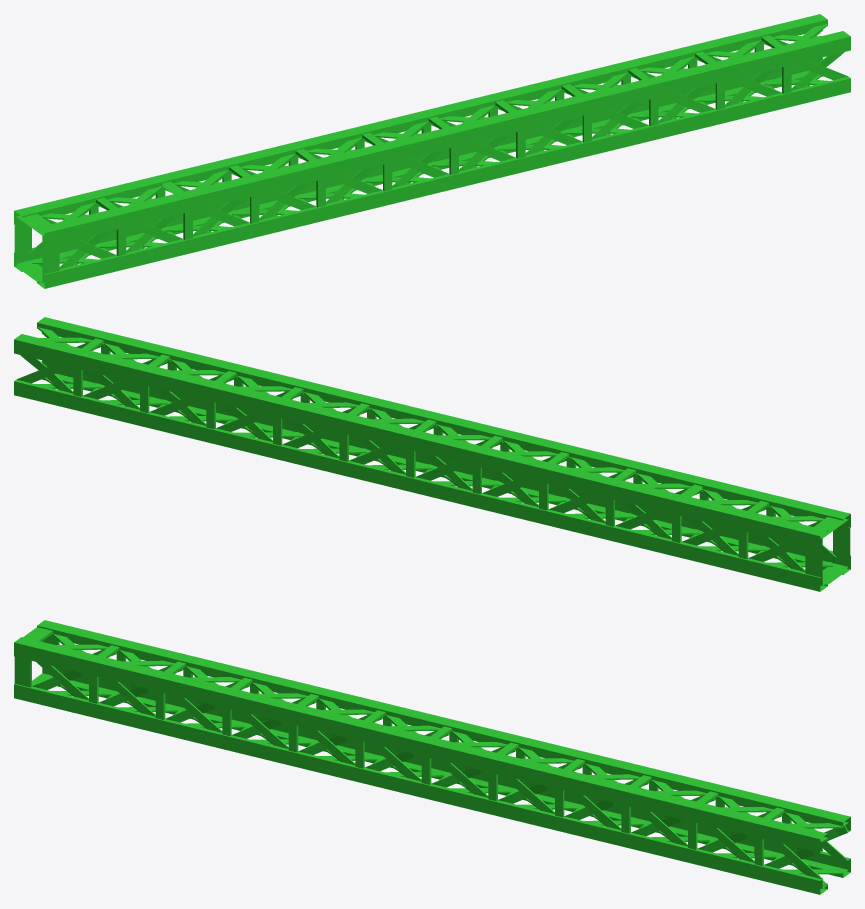
The model's file is arrivalPillarH.fbx.
The picture shows the model from 3 angles, top to bottom: view 1: azimuth 30°, elevation 25°; view 2: azimuth 150°, elevation 25°; view 3: azimuth 330°, elevation 25°; orthographic projection.
Visible parts, largest first — view 1: arrivalPillarH; view 2: arrivalPillarH; view 3: arrivalPillarH.
Boxes of the visible parts, left/top/right/bottom form: arrivalPillarH: left=14, top=14, right=850, bottom=288; arrivalPillarH: left=14, top=317, right=850, bottom=591; arrivalPillarH: left=14, top=620, right=850, bottom=894.
Size of the model in its own units: 10.3 by 0.68 by 0.68.
